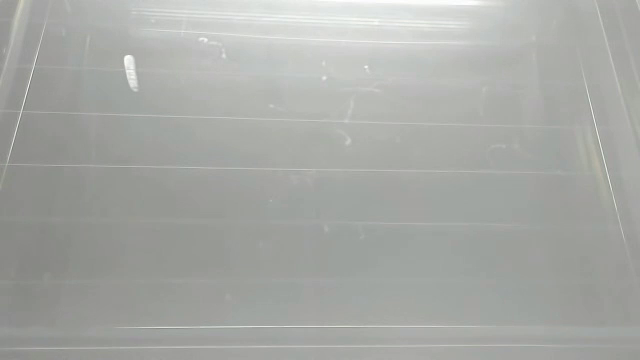alpha: (120, 51, 143, 95)
